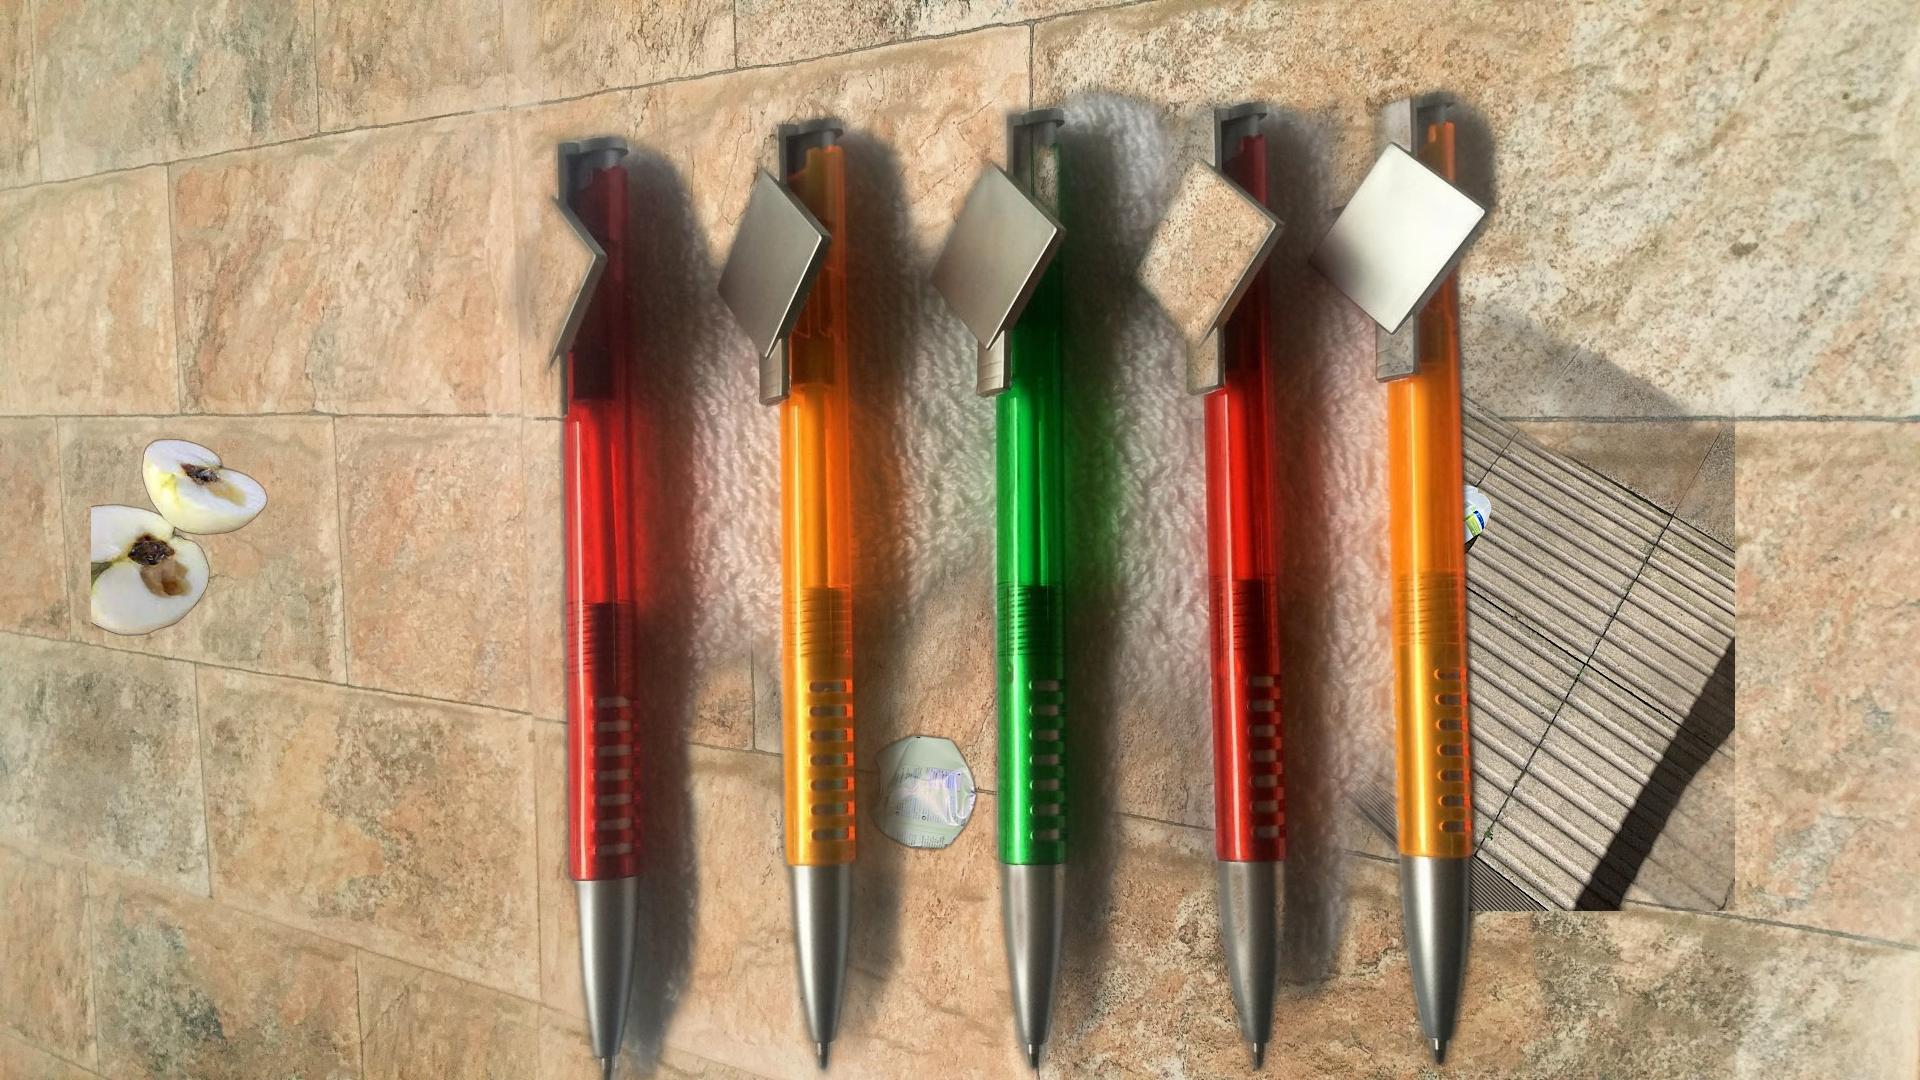biological: (91, 436, 270, 638)
metal-cans: (509, 264, 1013, 856)
penholder: (493, 49, 1596, 1080)
plastic-bag: (1287, 196, 1408, 280)
plastic-bottles: (1222, 228, 1735, 911)
